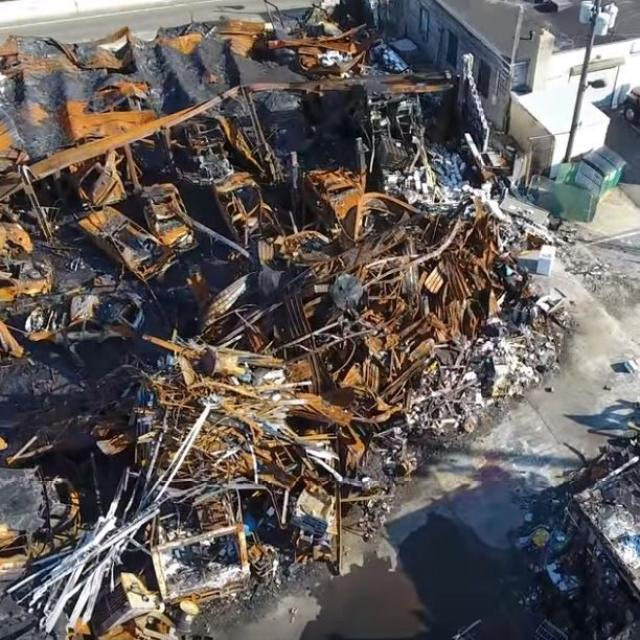collapsed_building: (0, 6, 495, 566)
